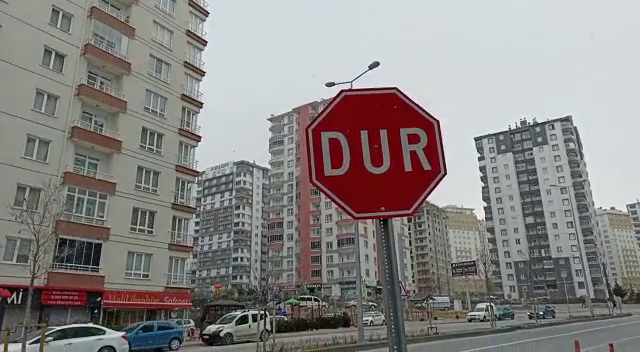stop: (299, 82, 452, 224)
